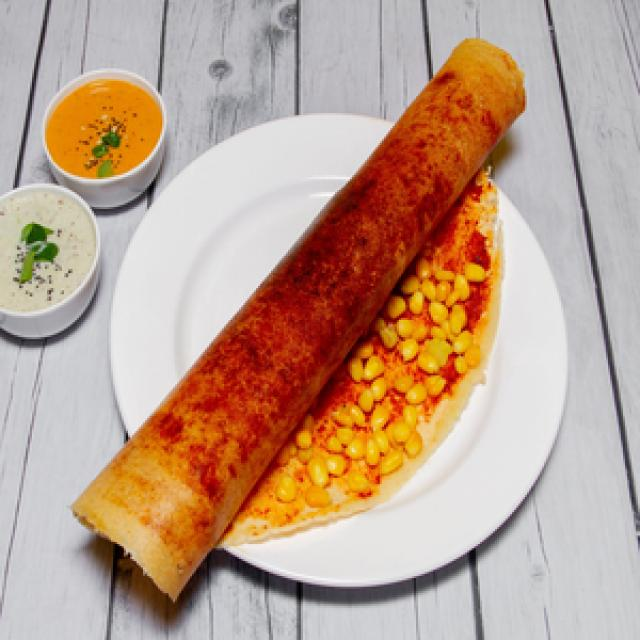dosa: (64, 29, 543, 620)
